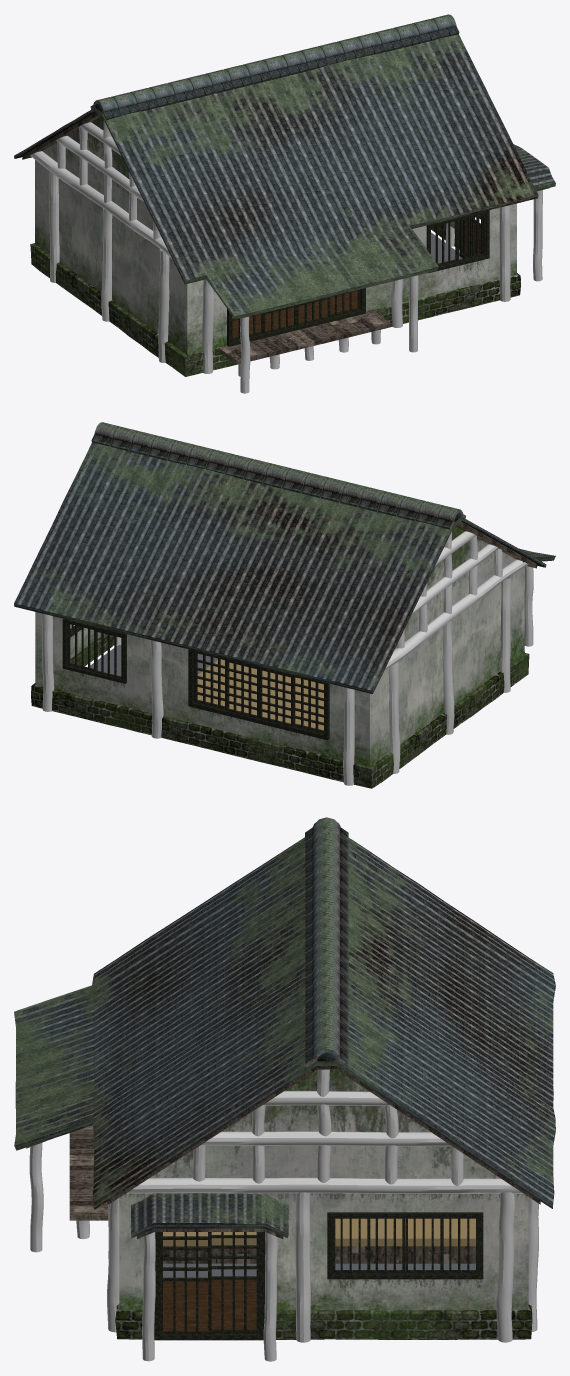
Rendered from JapaneseOldHouse.fbx.
3 views of the same model, one above another, from view 1: azimuth 30°, elevation 25°; view 2: azimuth 150°, elevation 25°; view 3: azimuth 270°, elevation 25° (orthographic). The views are drawn at different scales.
Visible parts, largest first — view 1: house.lp; view 2: house.lp; view 3: house.lp.
Boxes of the visible parts, <box> form: house.lp: <box>14,14,555,393</box>; house.lp: <box>14,422,555,788</box>; house.lp: <box>14,817,555,1361</box>.
Bounding box in the file's own units: 992 × 542 × 897.
